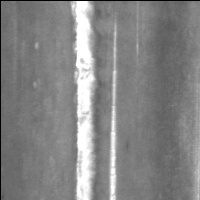scratches: (68, 1, 102, 200), (107, 12, 119, 200)
